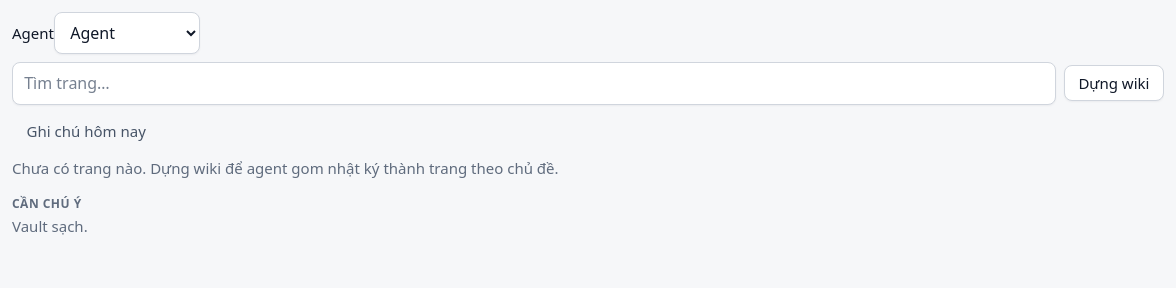
it: WikiSection › starts a compile and says where to watch it
The width and height of the screenshot is (1176, 288).
Expected: the text "Chưa có trang nào. Dựng wiki để agent gom nhật ký thành trang theo chủ đề." is shown, 12,158 -> 559,178
What coordinates should you click on to do the following:
click the button "Dựng wiki"
I would click on:
 (1114, 83)
Its box is 1064,65 -> 1164,101.
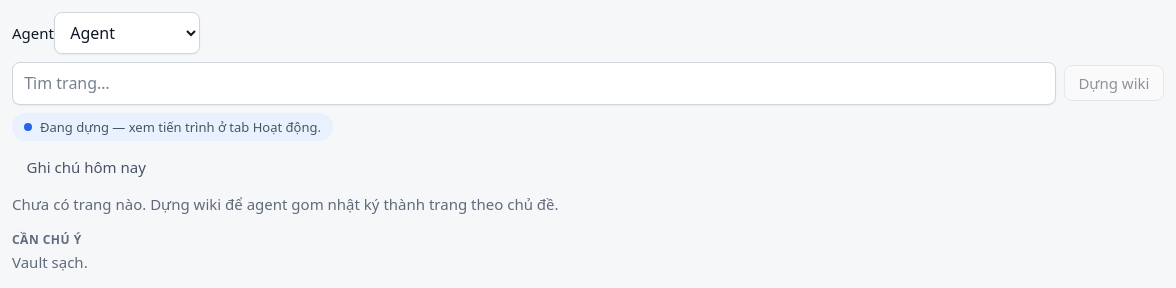
Expected: the text "Đang dựng — xem tiến trình ở tab Hoạt động." is shown, 40,117 -> 321,137
